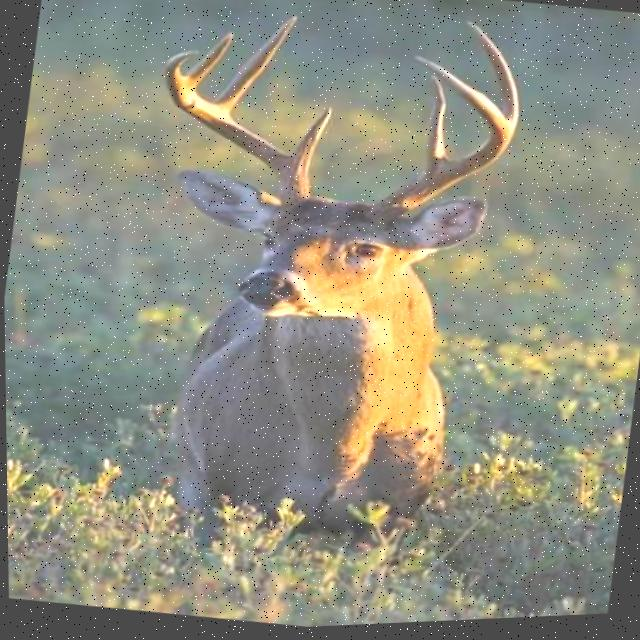L-F: (363, 59, 514, 229)
L-G1: (423, 79, 453, 177)
L-G2: (465, 25, 520, 130)
R-F: (162, 51, 309, 202)
R-G1: (293, 109, 332, 170)
R-G2: (207, 16, 300, 116)
R-G3: (184, 34, 235, 93)
